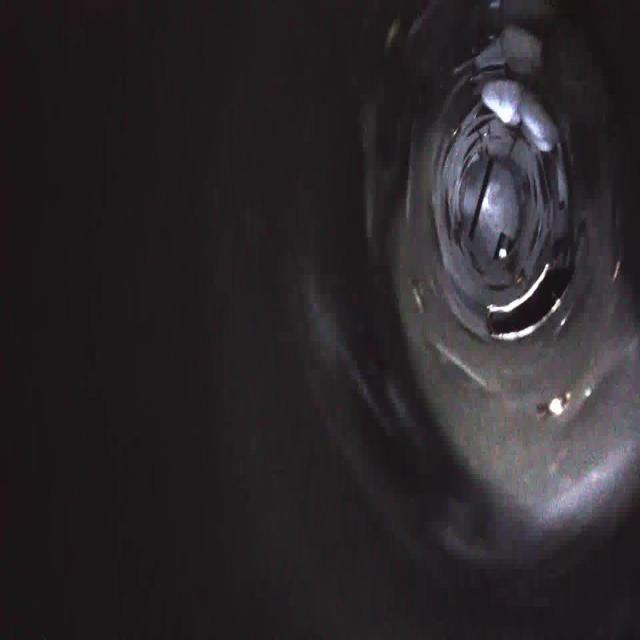crack: (421, 194, 456, 267), (524, 154, 562, 213), (464, 98, 505, 145), (440, 125, 480, 169), (526, 218, 560, 258), (494, 118, 527, 158), (487, 277, 508, 296)
hole: (483, 258, 579, 349)
